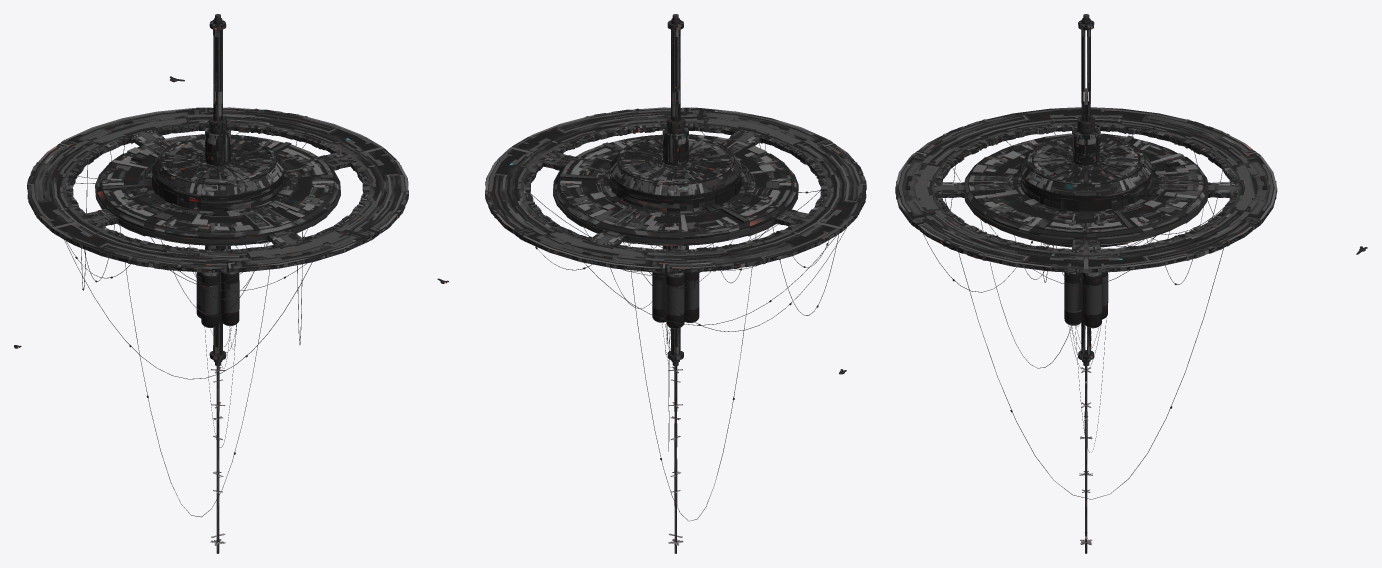
3 views of the same model, side by side, from view 1: azimuth 30°, elevation 25°; view 2: azimuth 150°, elevation 25°; view 3: azimuth 270°, elevation 25° (orthographic).
Visible parts, largest first — view 1: spacestation.016_low, spacestation.023_low, spacestation.031_low, spacestation.002_low, spacestation.010_low, spacestation.015_low, spacestation.022_low, spacestation.003_low, spacestation.020_low, spacestation.017_low, spacestation_low, spacestation.008_low (+12 smaller); view 2: spacestation.016_low, spacestation.023_low, spacestation.031_low, spacestation.002_low, spacestation.015_low, spacestation.010_low, spacestation.020_low, spacestation.019_low, spacestation_low, spacestation.003_low, spacestation.022_low, spacestation.008_low (+12 smaller); view 3: spacestation.016_low, spacestation.023_low, spacestation.031_low, spacestation.002_low, spacestation.015_low, spacestation.010_low, spacestation.003_low, spacestation_low, spacestation.020_low, spacestation.022_low, spacestation.017_low, spacestation.004_low (+10 smaller).
Part boxes in pixels (bbox=[...]): spacestation.016_low: bbox=[27, 107, 408, 272]; spacestation.023_low: bbox=[27, 107, 408, 272]; spacestation.031_low: bbox=[30, 108, 405, 272]; spacestation.002_low: bbox=[97, 134, 339, 245]; spacestation.010_low: bbox=[107, 138, 328, 227]; spacestation.015_low: bbox=[161, 137, 274, 184]; spacestation.022_low: bbox=[102, 142, 333, 232]; spacestation.003_low: bbox=[102, 135, 333, 245]; spacestation.020_low: bbox=[196, 272, 239, 327]; spacestation.017_low: bbox=[209, 20, 226, 360]; spacestation_low: bbox=[97, 149, 338, 244]; spacestation.008_low: bbox=[103, 137, 332, 243]; spacestation.016_low: bbox=[485, 107, 866, 272]; spacestation.023_low: bbox=[485, 107, 866, 272]; spacestation.031_low: bbox=[488, 108, 863, 272]; spacestation.002_low: bbox=[554, 134, 796, 245]; spacestation.015_low: bbox=[619, 137, 732, 184]; spacestation.010_low: bbox=[566, 138, 785, 227]; spacestation.020_low: bbox=[652, 272, 699, 328]; spacestation.019_low: bbox=[531, 132, 846, 521]; spacestation_low: bbox=[555, 149, 796, 244]; spacestation.003_low: bbox=[560, 135, 791, 245]; spacestation.022_low: bbox=[560, 142, 778, 232]; spacestation.008_low: bbox=[561, 137, 790, 243]; spacestation.016_low: bbox=[895, 108, 1277, 272]; spacestation.023_low: bbox=[896, 107, 1276, 272]; spacestation.031_low: bbox=[898, 109, 1273, 271]; spacestation.002_low: bbox=[964, 136, 1207, 246]; spacestation.015_low: bbox=[1027, 136, 1144, 185]; spacestation.010_low: bbox=[968, 135, 1203, 230]; spacestation.003_low: bbox=[974, 139, 1198, 239]; spacestation_low: bbox=[966, 154, 1204, 244]; spacestation.020_low: bbox=[1064, 272, 1108, 328]; spacestation.022_low: bbox=[972, 135, 1198, 229]; spacestation.017_low: bbox=[1078, 20, 1094, 360]; spacestation.004_low: bbox=[976, 141, 1195, 236].
Size of the model in its own units: 12.63 by 18.43 by 14.67.
2 materials, 1 textured.
